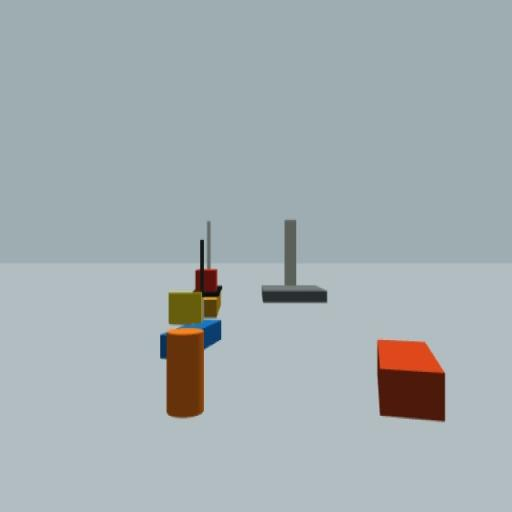buoy: (166, 290, 206, 418)
debris_container: (376, 336, 446, 423)
platform: (262, 218, 328, 306)
